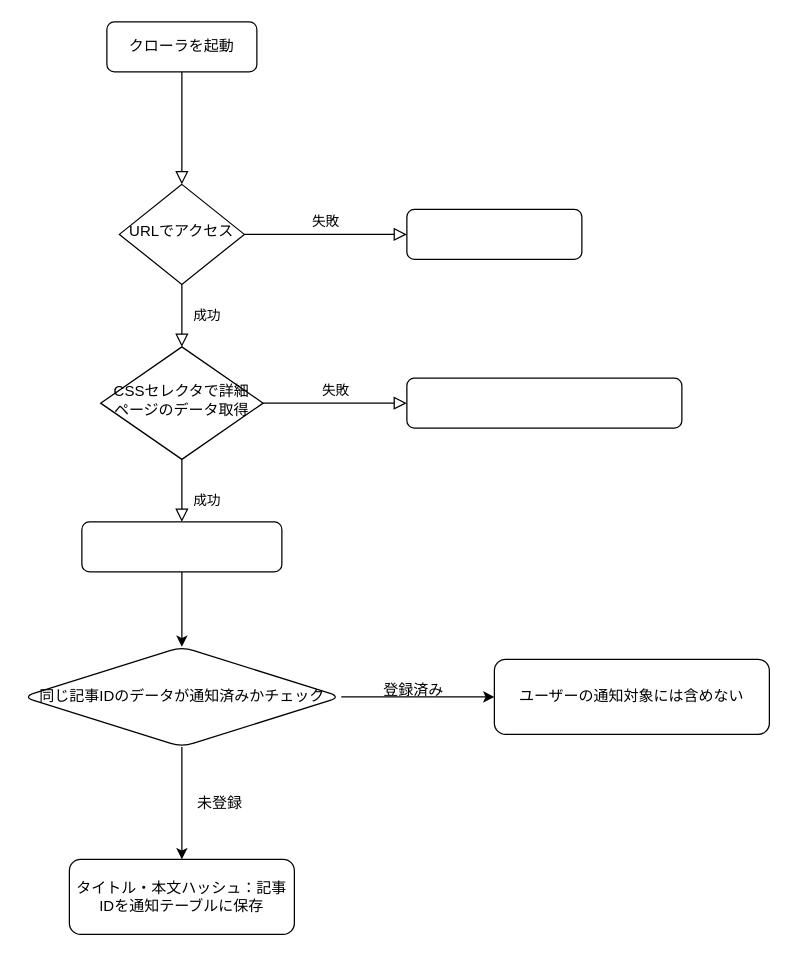
The diagram is 791 pixels wide and 956 high, and some of its shapes have lost their labels. Here are the shapes that lost their labels. From the top down, the centre of each, then its label:
At point 494,233: "URL無効を管理者に通知".
At point 544,402: "CSSセレクタの無効を管理者に通知".
At point 181,546: "コンテンツをハッシュ化、記事のIDを取得".
